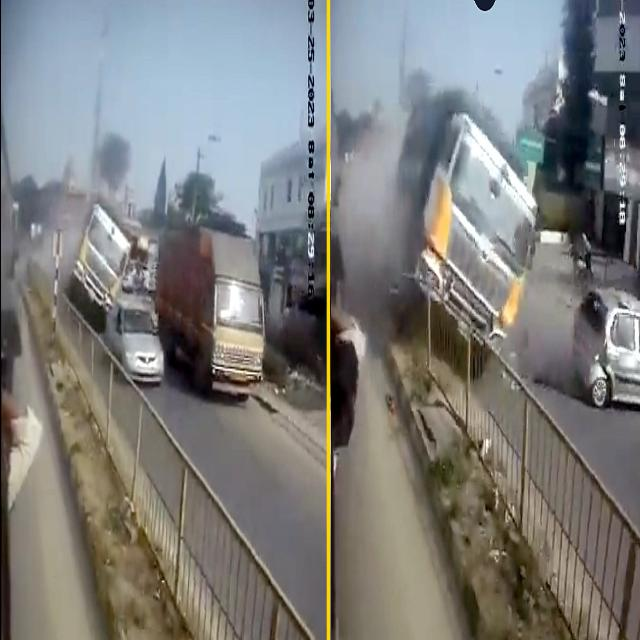accident: (574, 289, 640, 405)
truck: (156, 229, 265, 392)
